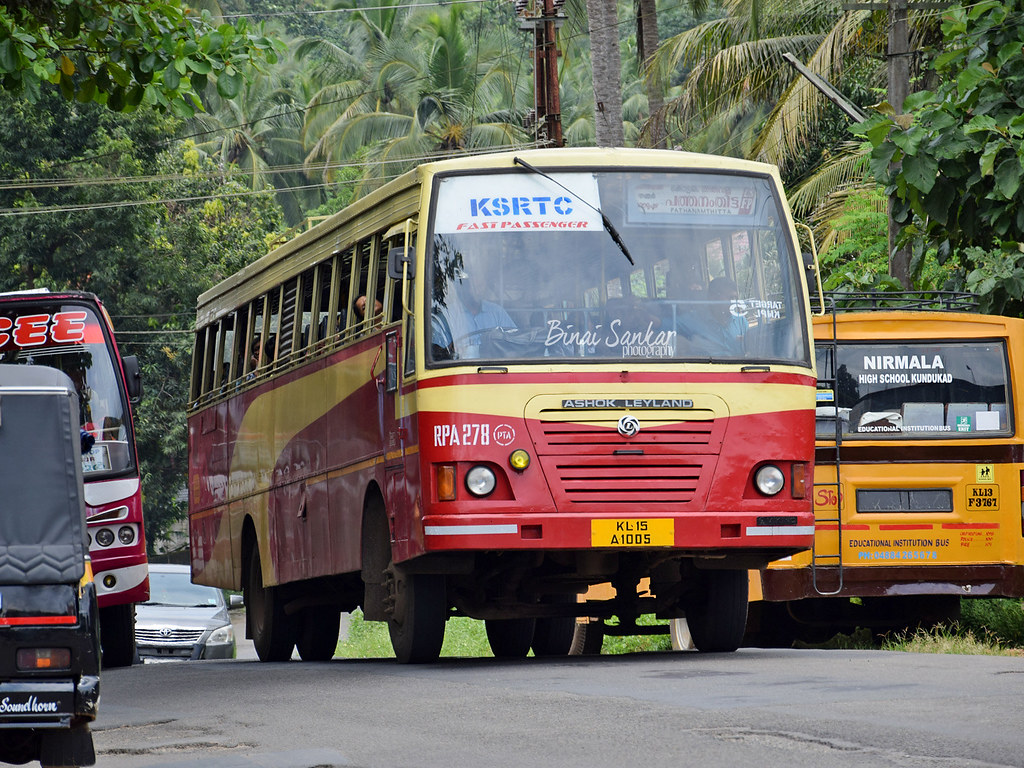bus: (168, 136, 821, 642)
numberplate: (590, 509, 681, 556)
